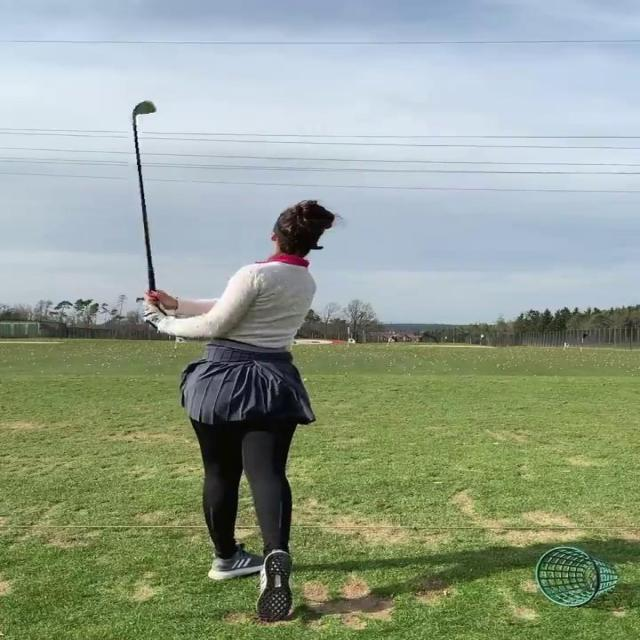ClubHandle: (134, 101, 157, 290)
ClubHead: (133, 100, 157, 116)
